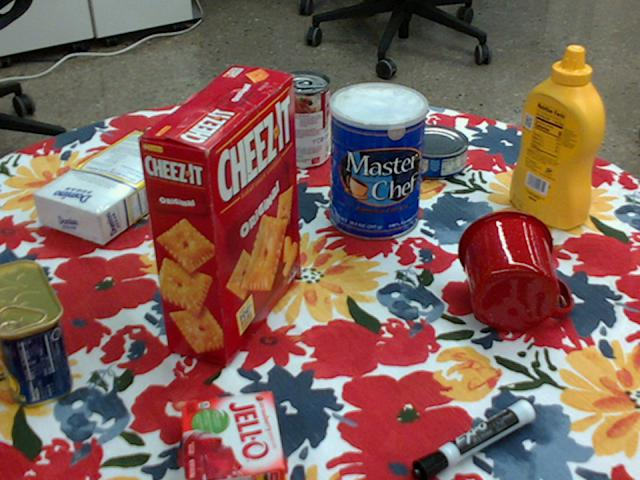cracker_box: (134, 65, 296, 365)
gelatin_box: (182, 391, 288, 479)
large_marker: (413, 399, 537, 479)
master_chef_can: (329, 82, 428, 241)
mug: (456, 209, 572, 331)
mustard_bottle: (508, 47, 603, 230)
potted_meat_can: (0, 259, 71, 405)
sugar_box: (33, 131, 197, 246)
tomato_soup_can: (274, 71, 330, 169)
tuna_fish_can: (400, 126, 471, 180)
